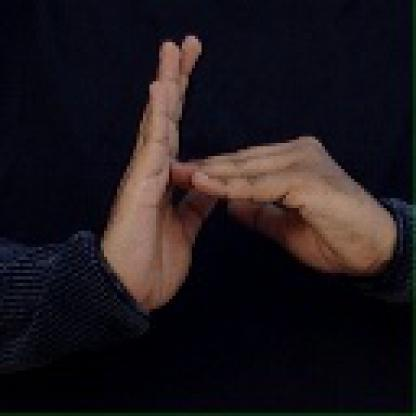Z: (106, 34, 354, 282)
